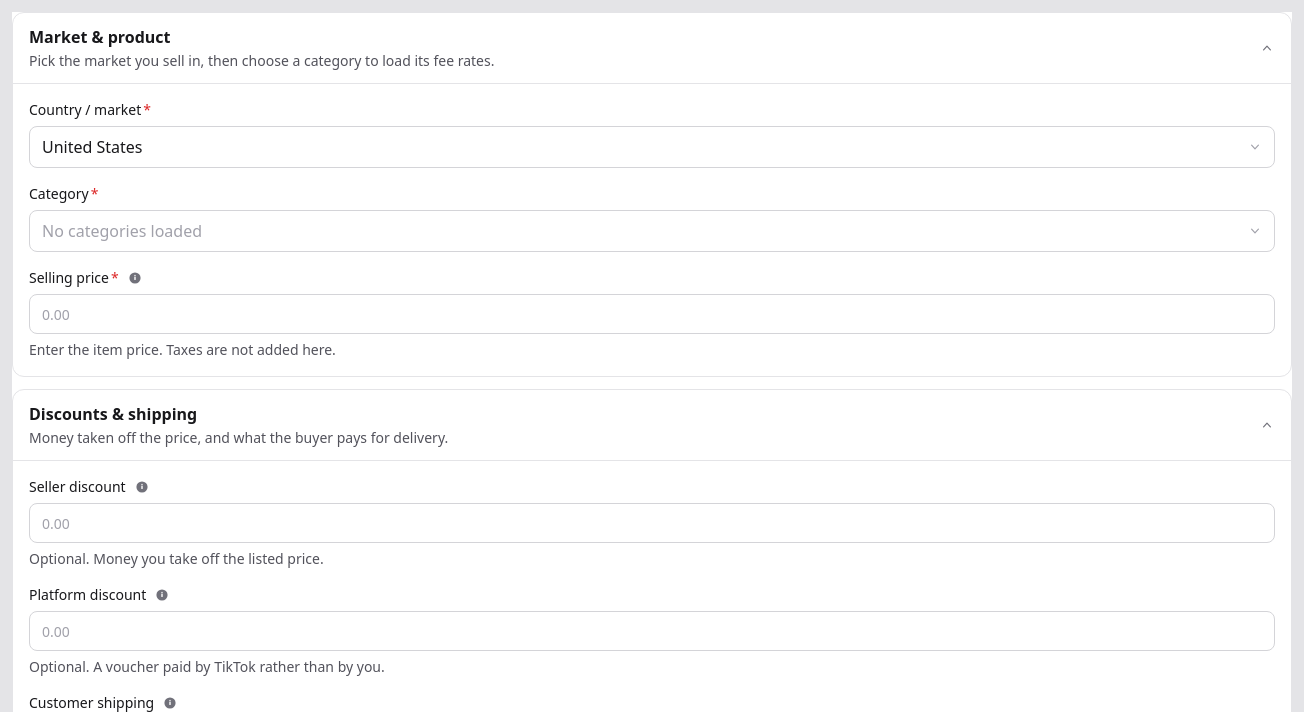
PH Seller tier control in the form › offers exactly Marketplace and Mall
Focus the dropdown labelled "Country / market*" at point(652, 147), box [29, 126, 1275, 168]
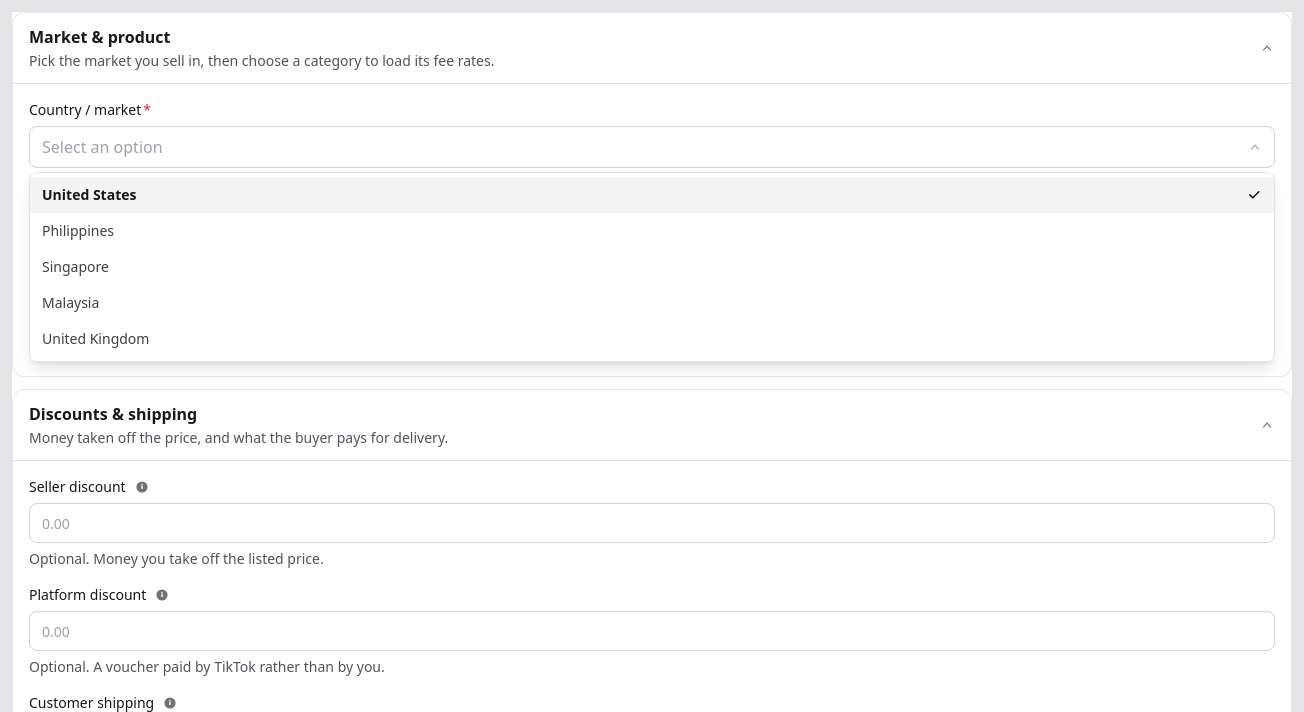
Press the mouse on the option "Philippines" at point(78, 230), box [42, 221, 114, 240]
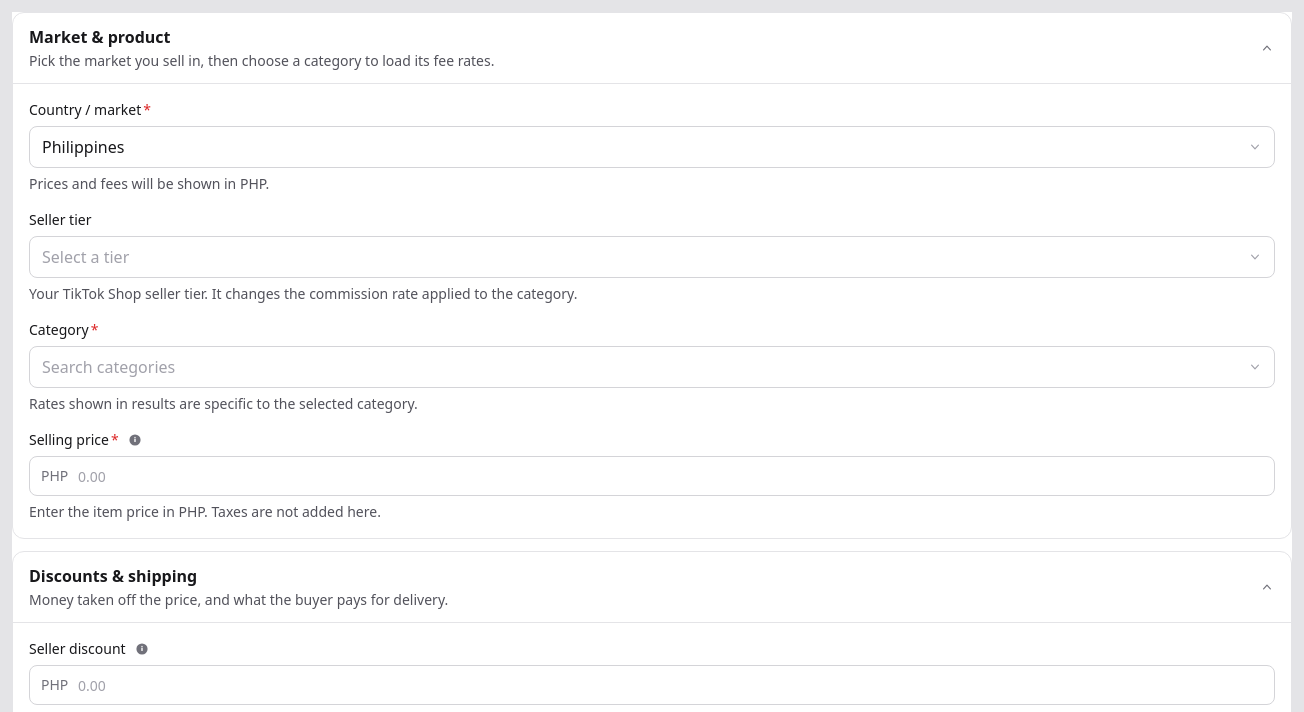
Focus the dropdown labelled "Seller tier" at point(652, 257), box [29, 236, 1275, 278]
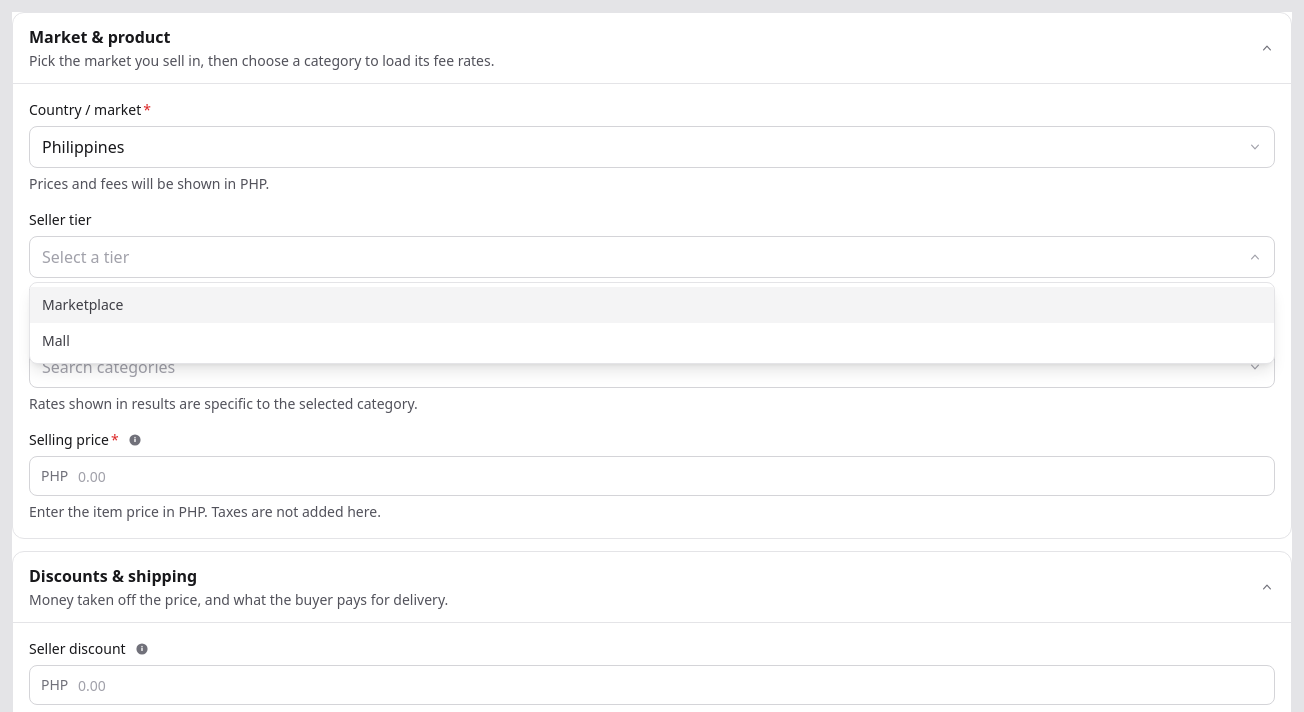
Expected: the options read "Marketplace", "Mall", in this order, [30, 287, 1274, 323]; [42, 331, 70, 350]
